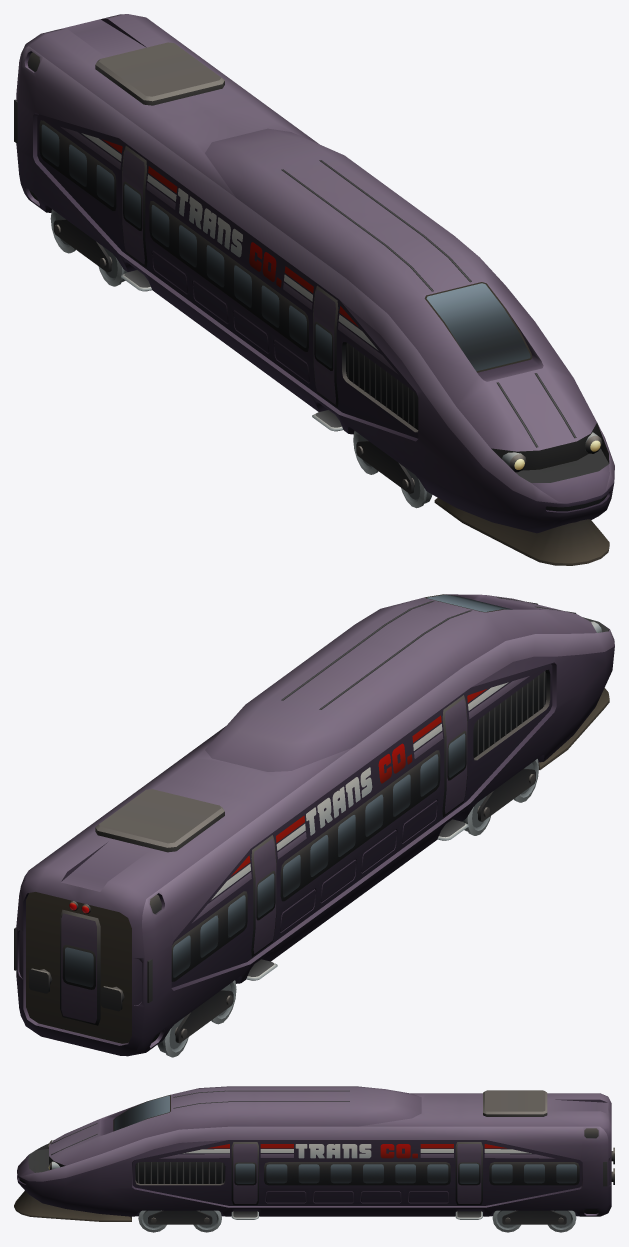
Rendered from Train_Cart_4B.fbx.
3 renders of one model, top to bottom at view 1: azimuth 30°, elevation 25°; view 2: azimuth 150°, elevation 25°; view 3: azimuth 270°, elevation 25°, orthographic. The views are drawn at different scales.
Visible parts, largest first — view 1: Train_Cart_4B, Train_Cart_4B_Livery; view 2: Train_Cart_4B, Train_Cart_4B_Livery; view 3: Train_Cart_4B, Train_Cart_4B_Livery, Train_Cart_4B_Wheel_M2.L, Train_Cart_4B_Wheel_R.L, Train_Cart_4B_Wheel_M1.L, Train_Cart_4B_Wheel_F.L.
Boxes of the visible parts, x1,y1,x2,y2 form: Train_Cart_4B: (14,14,614,565); Train_Cart_4B_Livery: (60,126,398,374); Train_Cart_4B: (14,594,614,1056); Train_Cart_4B_Livery: (192,676,529,922); Train_Cart_4B: (14,1086,614,1224); Train_Cart_4B_Livery: (159,1144,554,1158); Train_Cart_4B_Wheel_M2.L: (492,1210,520,1232); Train_Cart_4B_Wheel_R.L: (548,1210,576,1232); Train_Cart_4B_Wheel_M1.L: (193,1210,221,1232); Train_Cart_4B_Wheel_F.L: (138,1210,166,1232).
Bounding box in the file's own units: 2.92 × 4.12 × 18.66.
